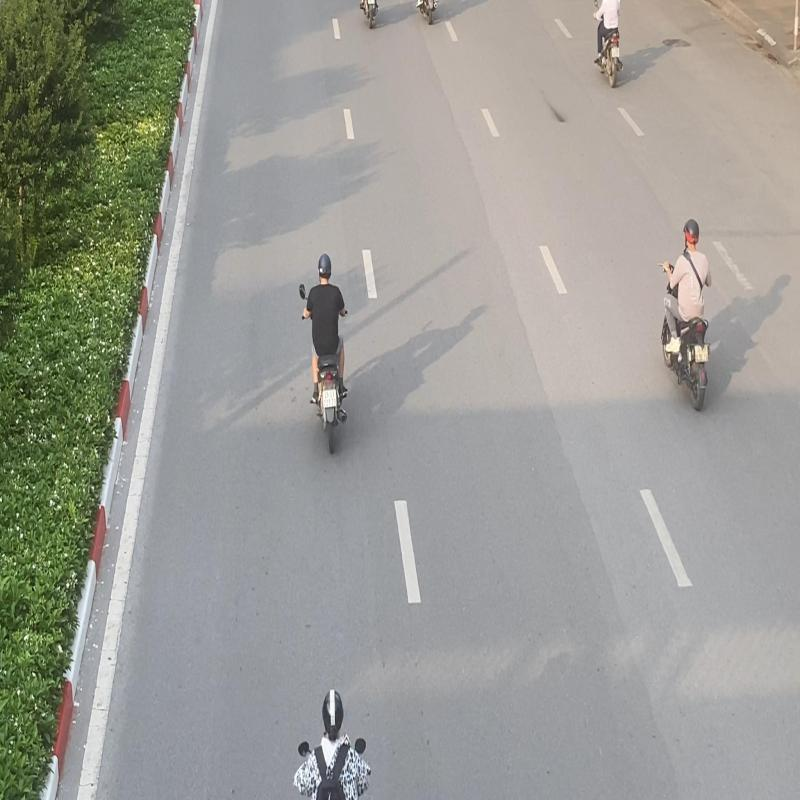helmet: (317, 251, 332, 284)
licenseplate: (322, 388, 337, 408)
motorcyclist: (298, 251, 348, 456)
